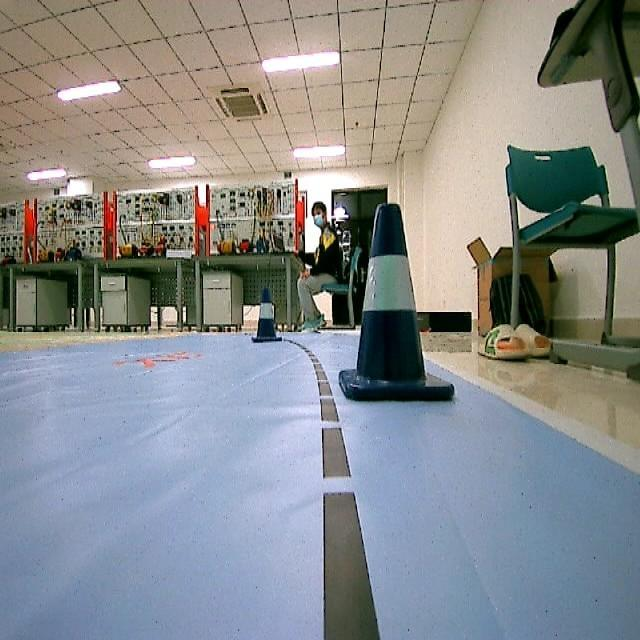obstacle: (348, 202, 454, 406), (252, 287, 280, 343)
